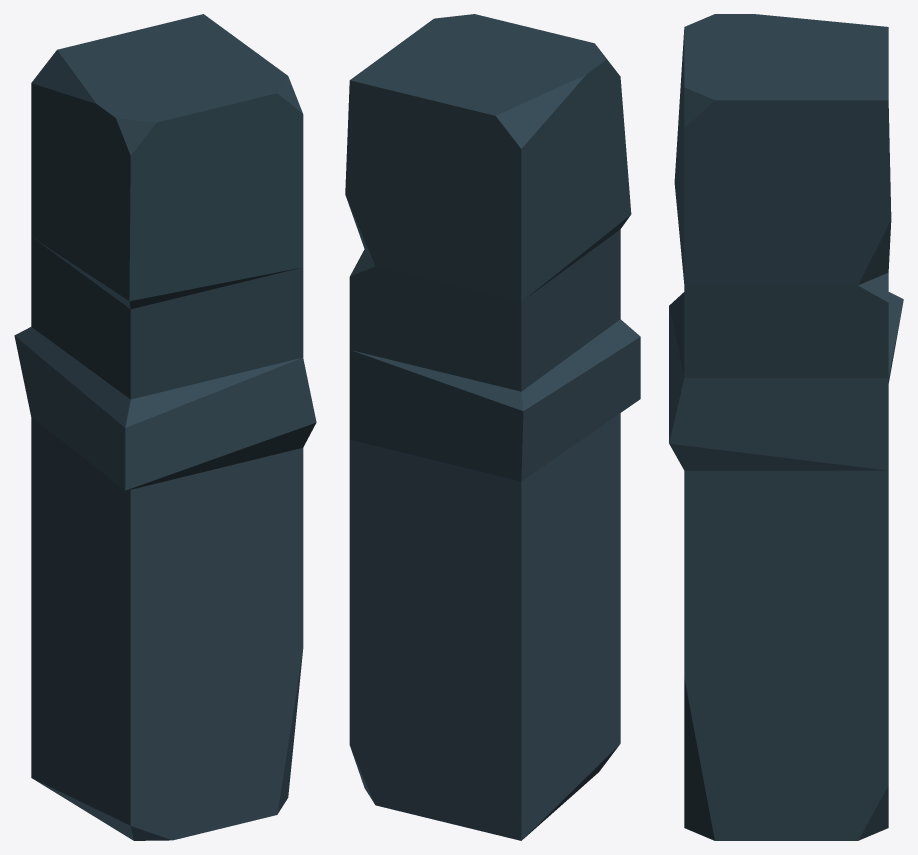
Rendered from level_element_1x1x4.fbx.
The picture shows the model from 3 angles, left to right: view 1: azimuth 30°, elevation 25°; view 2: azimuth 150°, elevation 25°; view 3: azimuth 270°, elevation 25°; orthographic projection. The views are drawn at different scales.
Parts seen in each view (by area): view 1: level_element_1x1x4; view 2: level_element_1x1x4; view 3: level_element_1x1x4.
Part boxes in pixels (x1=…): level_element_1x1x4: x1=14, y1=14, x2=316, y2=840; level_element_1x1x4: x1=345, y1=14, x2=640, y2=840; level_element_1x1x4: x1=669, y1=14, x2=903, y2=840.
Bounding box in the file's own units: 111 × 400 × 115.
